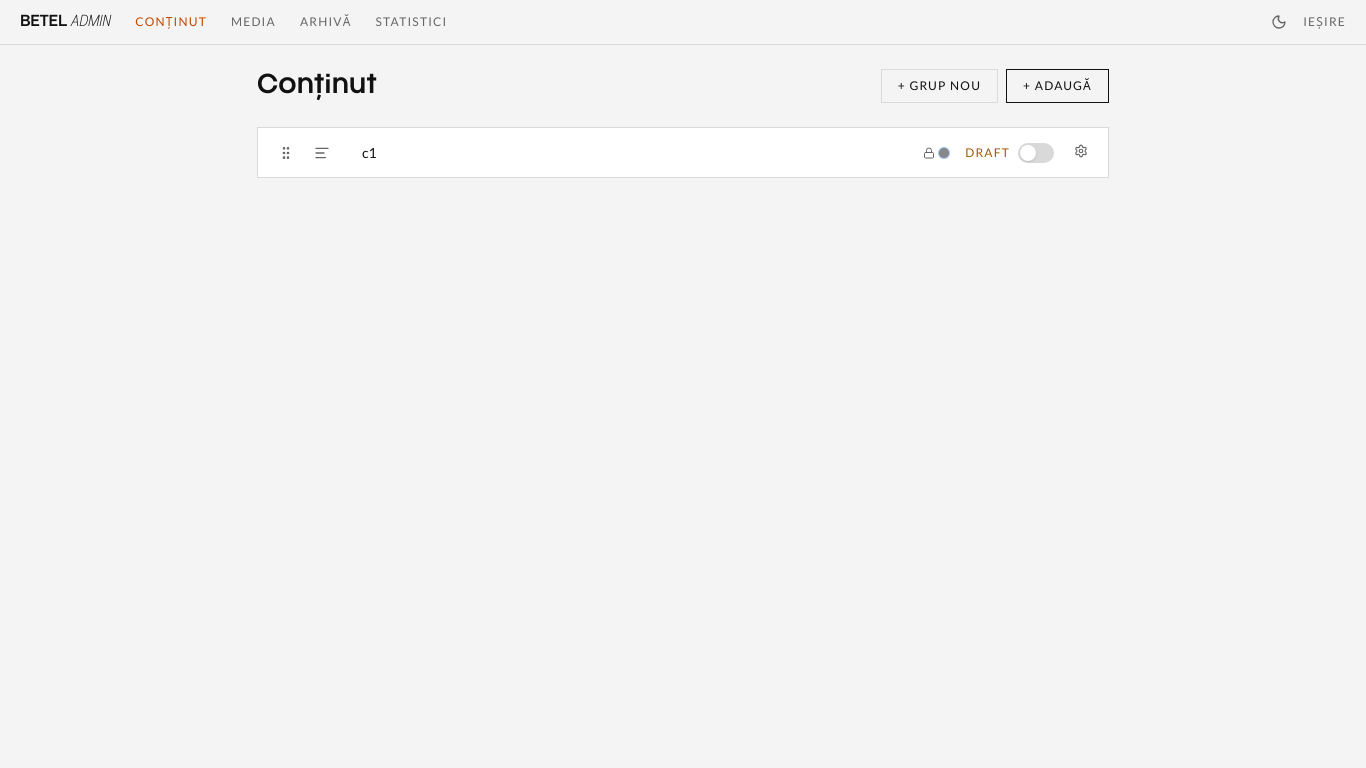
it: Toast notifications › shows a success toast after deleting content
The width and height of the screenshot is (1366, 768).
What coordinates should you click on to do the following:
click the button with test id "item-menu-trigger-c1"
I would click on:
 (1081, 151)
Its box is 1070,140 -> 1092,162.
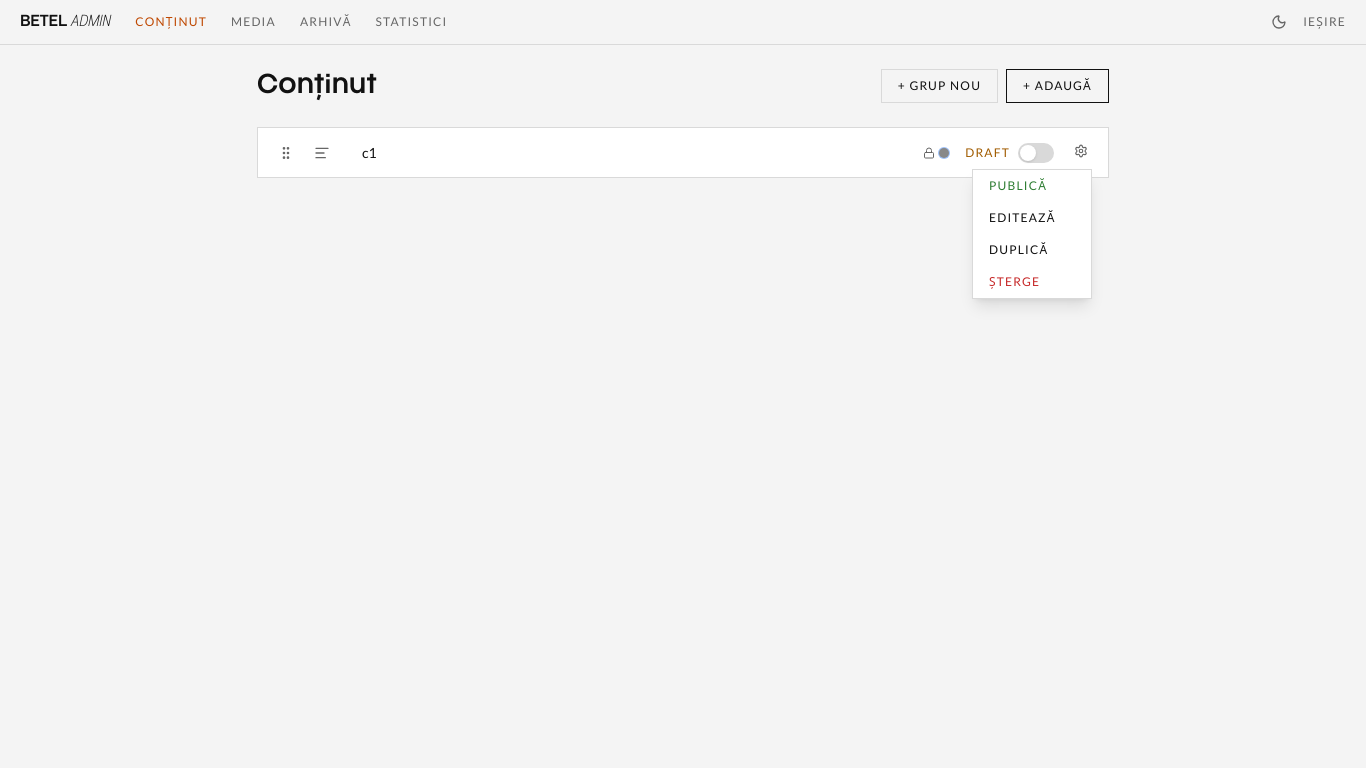
What coordinates should you click on to do the following:
click the button with test id "item-menu-delete-c1"
I would click on:
 (1032, 282)
Its box is 973,266 -> 1091,298.
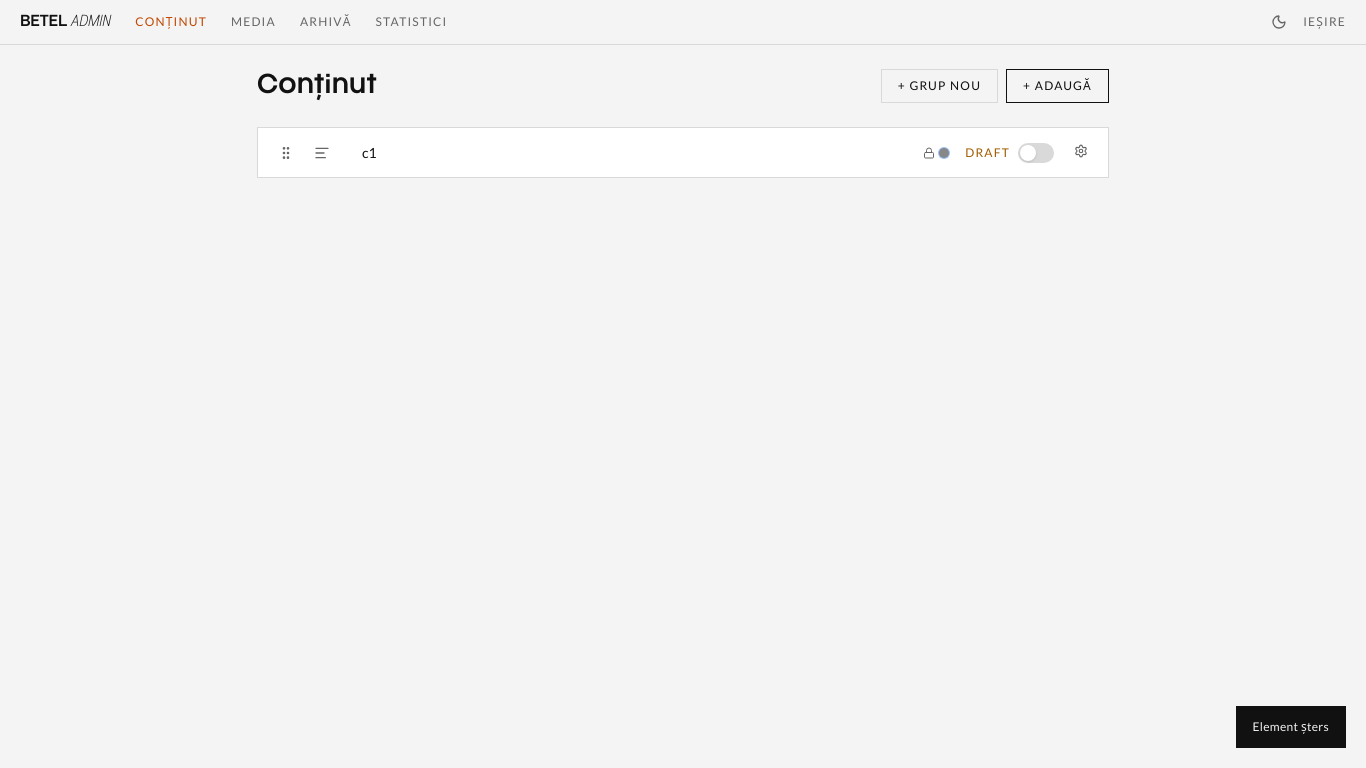
Now the text "Element șters" is shown, box 1236,706 -> 1346,748
Now the text with test id "toast" shows "șters", box 1253,719 -> 1329,734
